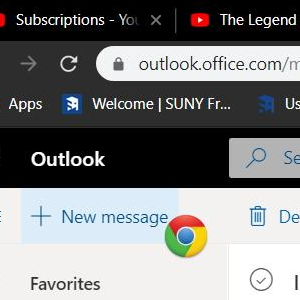chrome: (164, 214, 208, 259)
